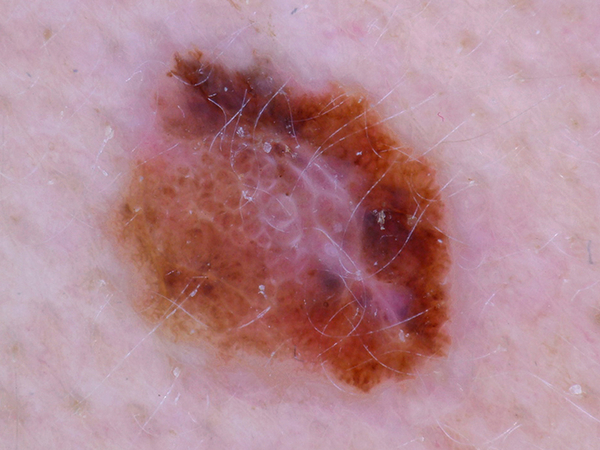Detected Lesion: (116, 42, 466, 400)
